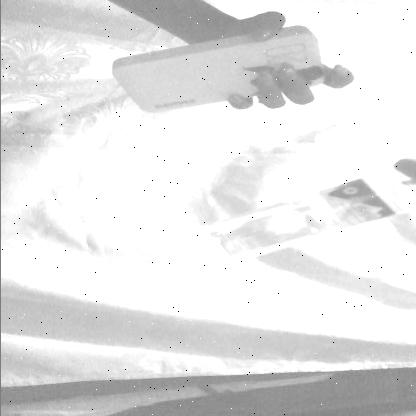Plastic Bottle: (196, 152, 416, 266)
